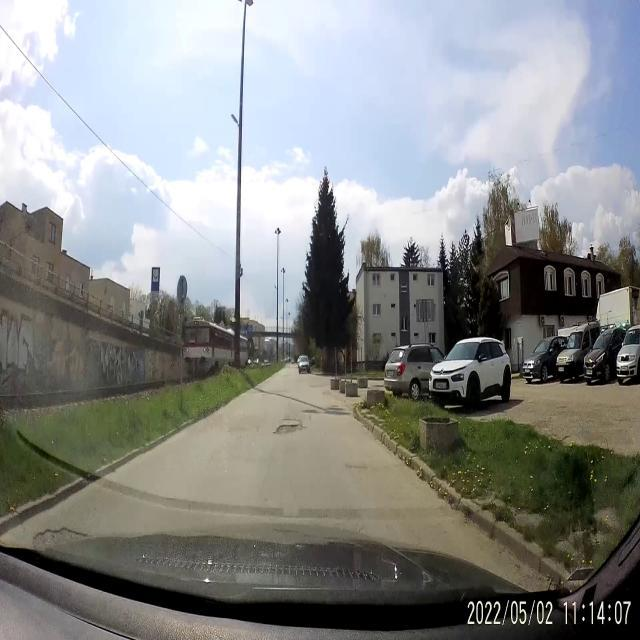Pothole: (272, 418, 307, 434), (344, 462, 366, 473), (261, 393, 267, 396)
